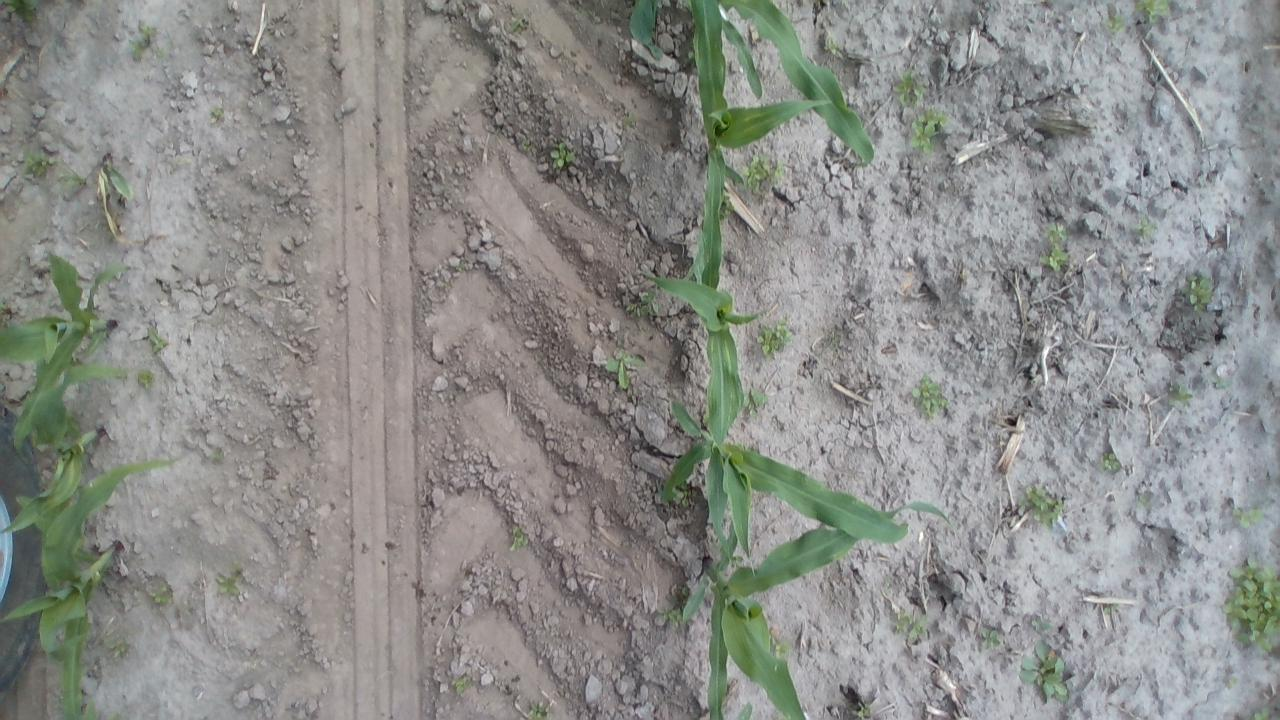Maize: (682, 501, 952, 720), (658, 398, 909, 576), (684, 0, 834, 295), (1, 461, 168, 720), (640, 226, 766, 564), (0, 251, 134, 463), (719, 0, 874, 163), (0, 424, 103, 539), (628, 1, 668, 58), (99, 153, 133, 200), (81, 700, 96, 718)
Weeds: (1221, 556, 1280, 654), (1020, 639, 1069, 699), (1018, 486, 1067, 527), (909, 108, 952, 154), (911, 373, 953, 419), (739, 153, 785, 194), (760, 315, 799, 358), (1038, 222, 1072, 269), (604, 358, 646, 392), (1186, 272, 1217, 312), (896, 607, 928, 643), (896, 67, 926, 104), (218, 566, 245, 598), (1232, 504, 1266, 528), (129, 23, 157, 52), (1134, 0, 1168, 23), (1169, 382, 1196, 410), (22, 154, 50, 180), (743, 386, 767, 415), (550, 142, 574, 170), (508, 525, 530, 554), (146, 324, 166, 352), (1096, 452, 1120, 474), (981, 628, 1003, 652), (678, 483, 697, 509), (450, 674, 472, 696), (1105, 14, 1126, 36), (1033, 614, 1054, 634), (638, 292, 656, 314), (528, 702, 552, 718), (1135, 215, 1156, 232), (150, 586, 172, 602), (774, 638, 791, 658), (665, 604, 682, 624), (512, 14, 532, 30), (208, 108, 224, 125), (722, 196, 734, 216), (1224, 671, 1238, 688), (110, 641, 126, 655), (140, 373, 154, 388), (1254, 707, 1270, 720), (1214, 376, 1228, 388), (1136, 492, 1150, 503), (114, 368, 126, 380), (214, 446, 222, 461), (524, 140, 530, 149)
